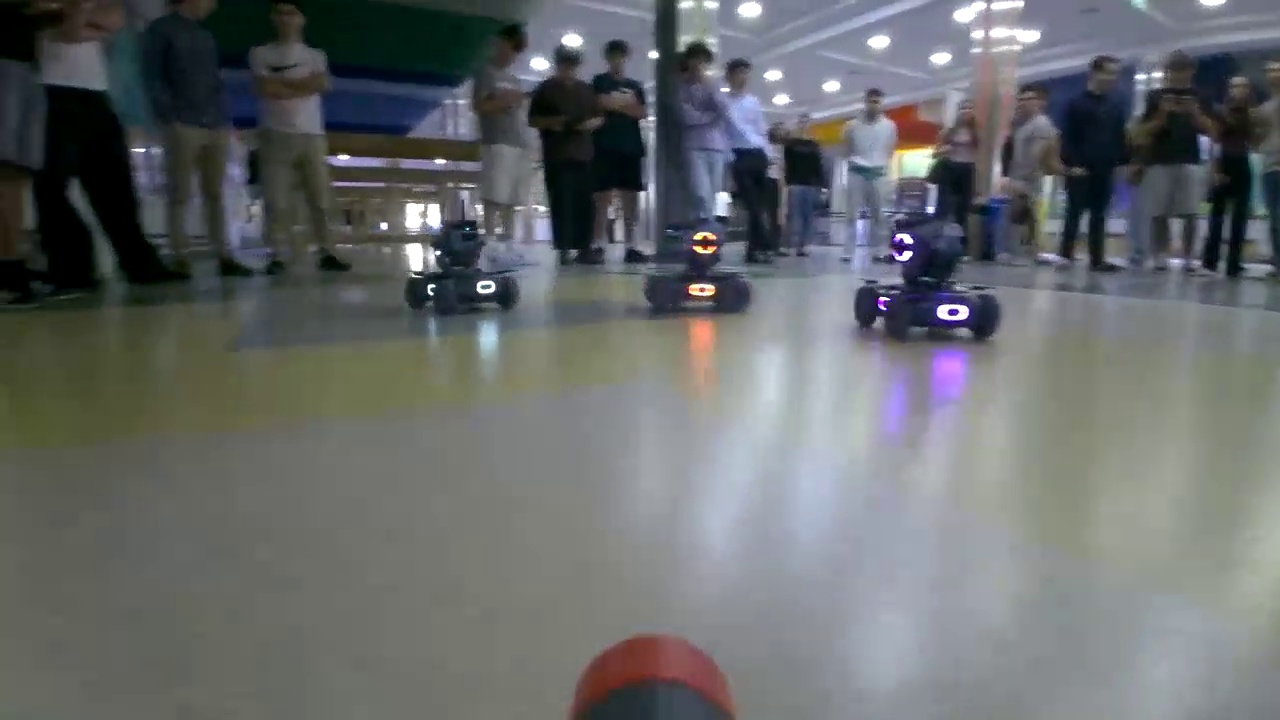robot: (856, 222, 998, 336), (640, 222, 754, 308), (420, 222, 524, 312)
